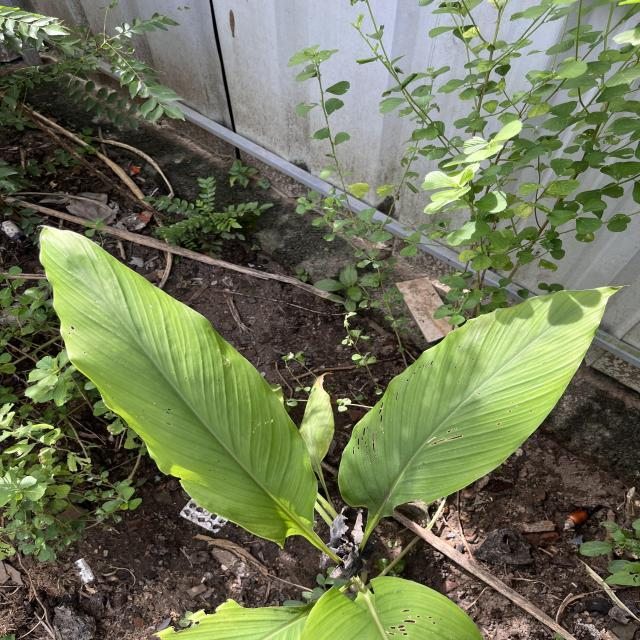Curcuma longa: (33, 220, 324, 552), (330, 275, 638, 524)
